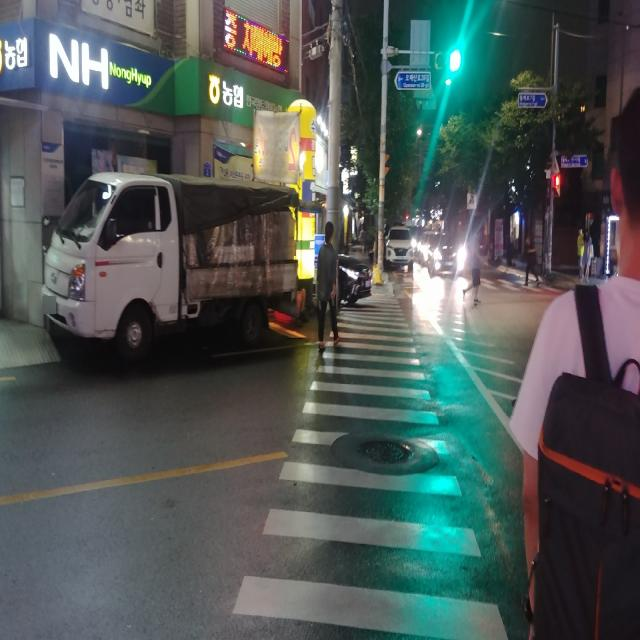횡단보도: (230, 293, 511, 640)
